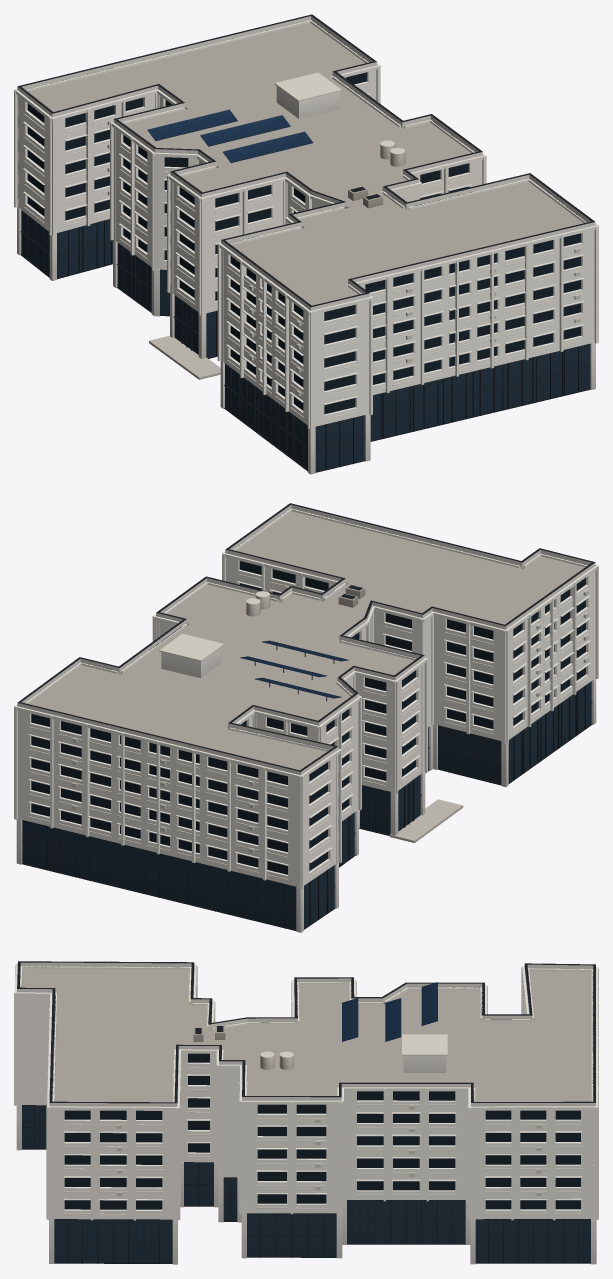
The model's file is fed_block.glb.
The picture shows the model from 3 angles, top to bottom: view 1: azimuth 30°, elevation 25°; view 2: azimuth 150°, elevation 25°; view 3: azimuth 270°, elevation 25°; orthographic projection. The views are drawn at different scales.
Parts seen in each view (by area): view 1: LOD0_High_StuccoWhite, LOD0_High_RoofSlabConcrete, LOD0_High_CurtainGlass, LOD1_Medium_StuccoWhite, LOD1_Medium_RecessedCavityGlass, LOD0_High_DarkAnodizedSteel, LOD0_High_StuccoWarmTrim, LOD0_High_SolarPV, LOD1_Medium_DarkAnodizedSteel, LOD0_High_ConcreteMuted; view 2: LOD0_High_StuccoWhite, LOD0_High_RoofSlabConcrete, LOD1_Medium_StuccoWhite, LOD0_High_CurtainGlass, LOD1_Medium_RecessedCavityGlass, LOD0_High_DarkAnodizedSteel, LOD0_High_StuccoWarmTrim, LOD0_High_SolarPV, LOD1_Medium_DarkAnodizedSteel, LOD0_High_ConcreteMuted; view 3: LOD0_High_StuccoWhite, LOD0_High_RoofSlabConcrete, LOD0_High_CurtainGlass, LOD1_Medium_StuccoWhite, LOD1_Medium_RecessedCavityGlass, LOD0_High_DarkAnodizedSteel, LOD0_High_StuccoWarmTrim, LOD0_High_SolarPV, LOD0_High_ConcreteMuted.
Part boxes in pixels (box(x1,y1,x2,y2)): LOD0_High_StuccoWhite: box(14, 16, 598, 474); LOD0_High_RoofSlabConcrete: box(28, 23, 583, 305); LOD0_High_CurtainGlass: box(21, 210, 590, 471); LOD1_Medium_StuccoWhite: box(17, 70, 594, 427); LOD1_Medium_RecessedCavityGlass: box(27, 21, 586, 414); LOD0_High_DarkAnodizedSteel: box(18, 14, 594, 472); LOD0_High_StuccoWarmTrim: box(24, 72, 583, 419); LOD0_High_SolarPV: box(147, 109, 313, 162); LOD1_Medium_DarkAnodizedSteel: box(78, 220, 563, 459); LOD0_High_ConcreteMuted: box(107, 120, 580, 396); LOD0_High_StuccoWhite: box(14, 504, 598, 932); LOD0_High_RoofSlabConcrete: box(29, 511, 584, 770); LOD1_Medium_StuccoWhite: box(18, 558, 595, 886); LOD0_High_CurtainGlass: box(22, 681, 591, 929); LOD1_Medium_RecessedCavityGlass: box(31, 509, 585, 874); LOD0_High_DarkAnodizedSteel: box(17, 503, 595, 930); LOD0_High_StuccoWarmTrim: box(29, 573, 589, 879); LOD0_High_SolarPV: box(240, 640, 348, 698); LOD1_Medium_DarkAnodizedSteel: box(375, 692, 576, 832); LOD0_High_ConcreteMuted: box(72, 586, 588, 853); LOD0_High_StuccoWhite: box(14, 962, 598, 1264); LOD0_High_RoofSlabConcrete: box(22, 968, 590, 1102); LOD0_High_CurtainGlass: box(22, 1105, 590, 1262); LOD1_Medium_StuccoWhite: box(17, 966, 594, 1219); LOD1_Medium_RecessedCavityGlass: box(20, 966, 593, 1209); LOD0_High_DarkAnodizedSteel: box(17, 961, 595, 1263); LOD0_High_StuccoWarmTrim: box(64, 1034, 581, 1214); LOD0_High_SolarPV: box(342, 982, 437, 1041); LOD0_High_ConcreteMuted: box(116, 1011, 541, 1196).
Bounding box in the file's own units: 49.35 × 27.97 × 84.32.
